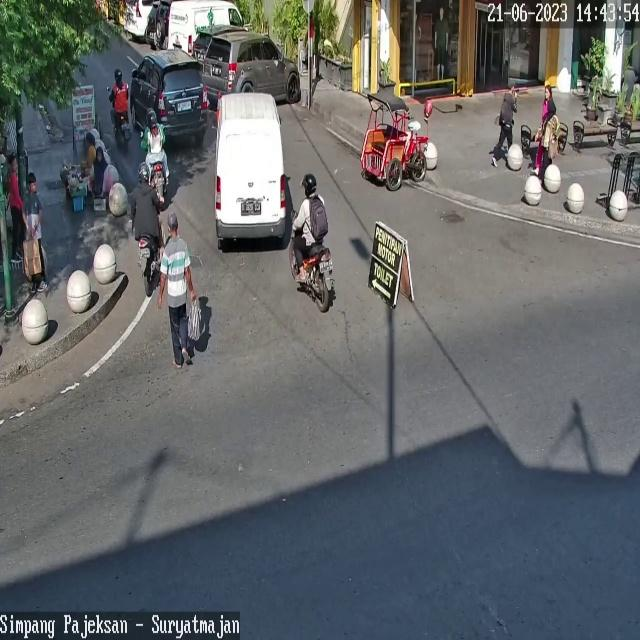bus: (289, 242, 332, 312), (139, 233, 159, 297), (149, 161, 168, 203), (114, 110, 131, 150)
motorcycle: (215, 93, 287, 238), (201, 32, 300, 104), (130, 48, 208, 138), (166, 0, 244, 55), (123, 0, 153, 38), (191, 27, 211, 64)
